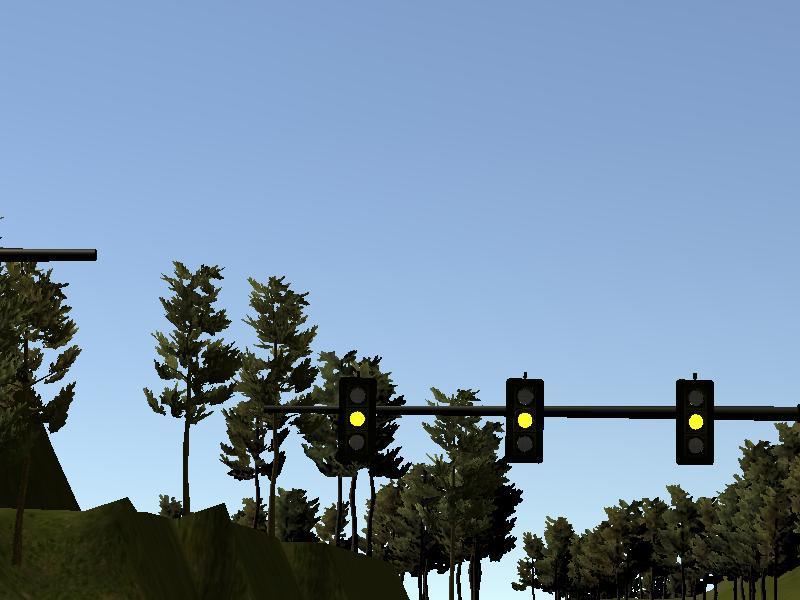Yellow: (676, 379, 714, 465), (506, 378, 543, 463), (340, 378, 376, 462)
